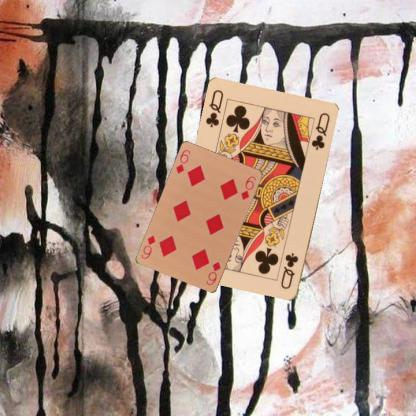6d: (173, 147, 192, 175), (203, 259, 222, 286)
Qc: (203, 88, 225, 130), (278, 250, 300, 290)
